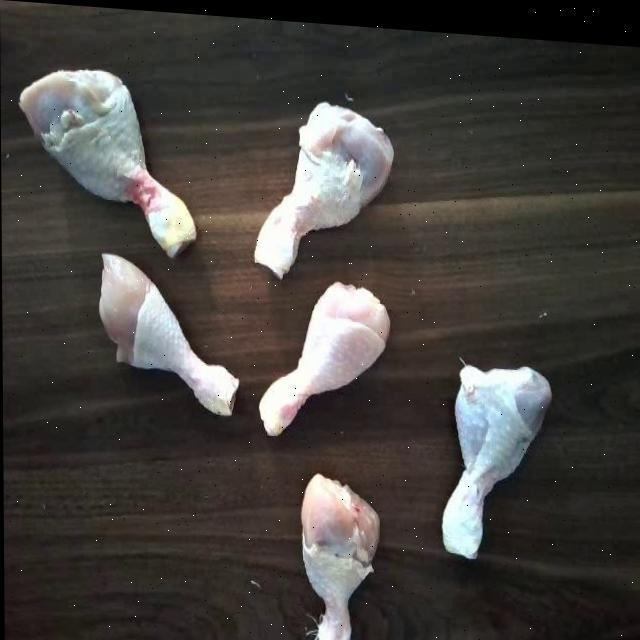leg: (16, 62, 207, 258), (252, 76, 398, 284), (86, 250, 241, 413), (256, 265, 386, 456), (434, 346, 546, 562), (294, 458, 378, 640)
